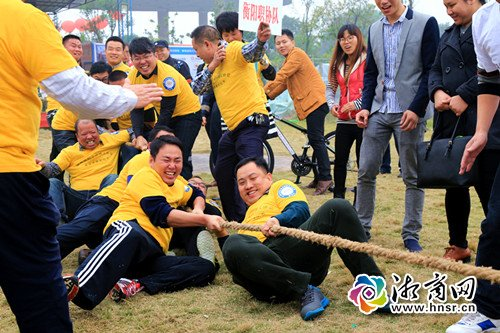fall: (36, 106, 150, 261)
